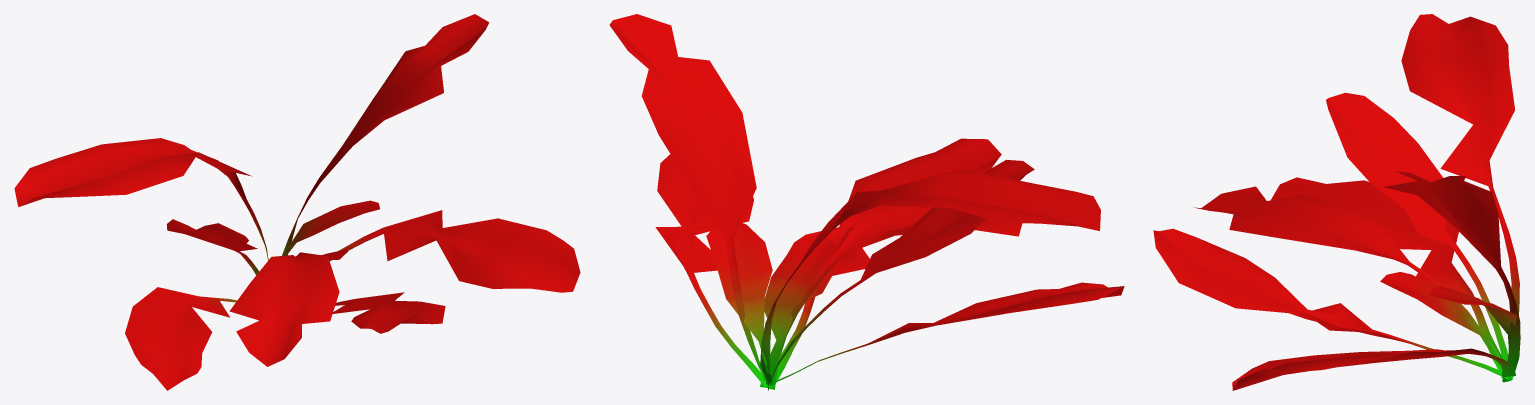
Rendered from Var16_LOD0.fbx.
The picture shows the model from 3 angles, left to right: view 1: azimuth 30°, elevation 25°; view 2: azimuth 150°, elevation 25°; view 3: azimuth 270°, elevation 25°; orthographic projection. The views are drawn at different scales.
Visible parts, largest first — view 1: _h0gs_Var16_LOD0; view 2: _h0gs_Var16_LOD0; view 3: _h0gs_Var16_LOD0.
Part boxes in pixels (bbox=[...]): _h0gs_Var16_LOD0: bbox=[14, 14, 580, 390]; _h0gs_Var16_LOD0: bbox=[609, 14, 1124, 390]; _h0gs_Var16_LOD0: bbox=[1153, 14, 1520, 390].
Size of the model in its own units: 35.17 by 19.79 by 22.13.
